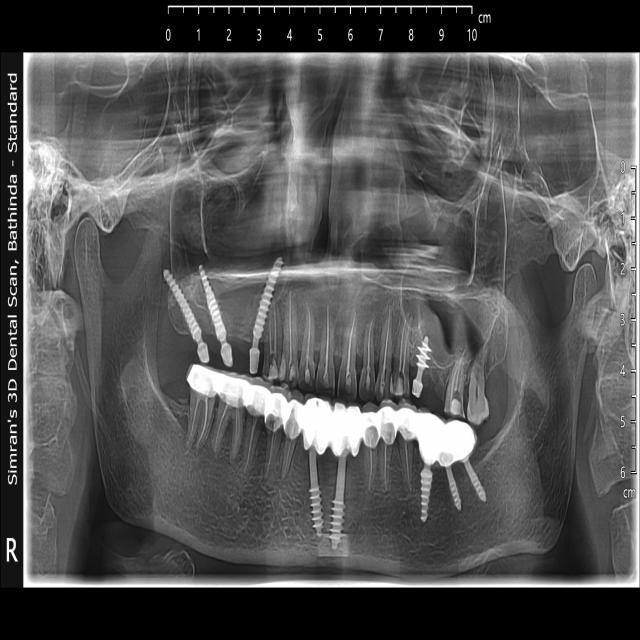Crown: (438, 420, 475, 467), (305, 397, 332, 453), (417, 413, 444, 466), (185, 362, 216, 401), (242, 375, 270, 416), (285, 387, 303, 445), (215, 370, 243, 407), (331, 401, 349, 458), (361, 399, 380, 453), (345, 406, 364, 459), (377, 401, 399, 446), (266, 387, 288, 431), (397, 400, 418, 443)
Filling: (268, 356, 280, 379), (450, 398, 462, 415), (289, 361, 297, 381), (379, 376, 386, 398), (396, 376, 403, 396), (304, 360, 310, 383), (345, 370, 351, 393), (323, 370, 329, 390), (366, 374, 370, 391)
Implant: (163, 268, 201, 337), (254, 255, 282, 338), (199, 269, 226, 341), (330, 449, 348, 550), (464, 457, 487, 504), (310, 448, 320, 536), (445, 463, 463, 511), (421, 468, 434, 524), (416, 336, 428, 382)
Root Canal Treatment: (193, 396, 211, 451), (186, 392, 200, 452), (244, 414, 259, 470), (381, 306, 391, 378), (265, 429, 279, 477), (346, 312, 357, 372), (215, 404, 229, 449), (454, 348, 467, 392), (401, 316, 410, 376), (282, 437, 294, 478), (449, 362, 460, 400), (233, 409, 241, 460), (399, 320, 406, 374), (404, 435, 410, 495), (383, 442, 390, 492), (306, 298, 311, 363), (367, 320, 373, 374), (325, 309, 329, 376), (273, 303, 277, 362), (269, 308, 273, 365), (367, 450, 372, 495), (289, 289, 292, 362), (459, 362, 463, 396)
maxillary sinus: (398, 172, 505, 368), (169, 144, 272, 275)
